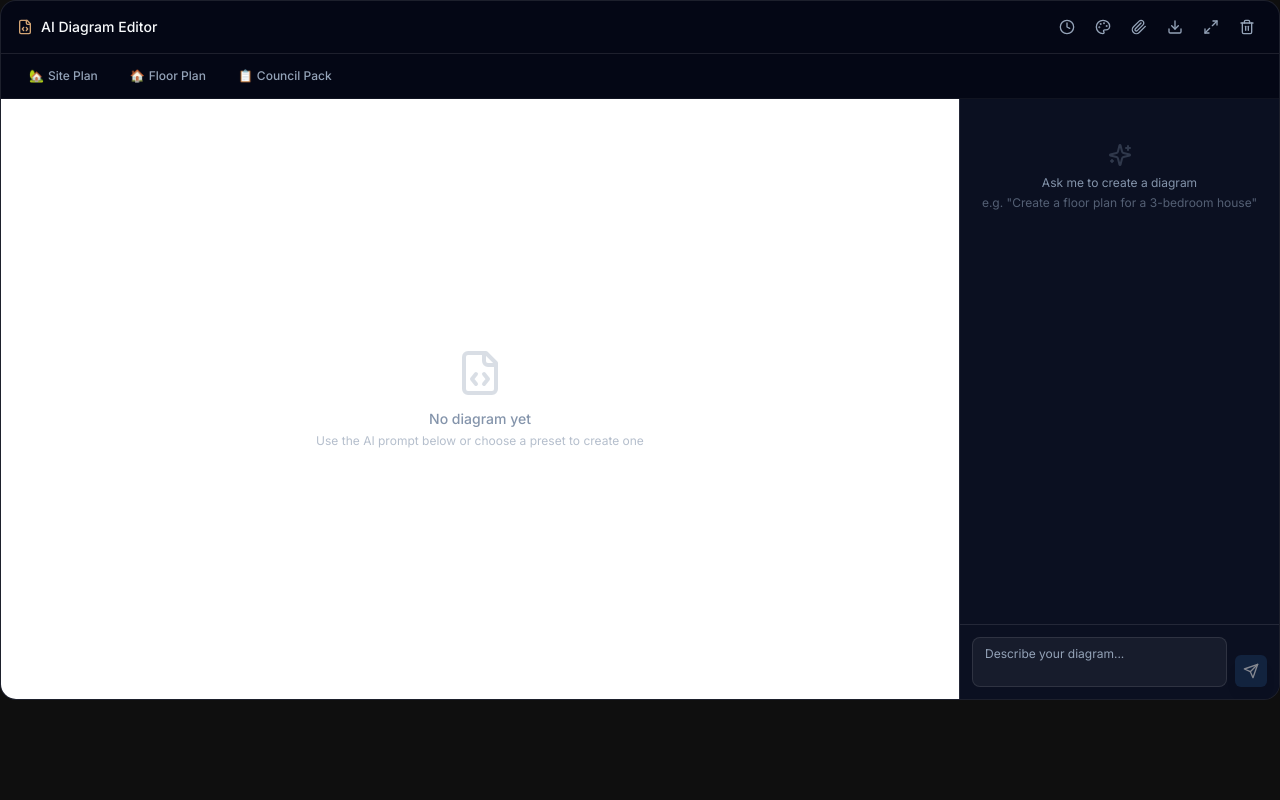
it: DrawIoEditor component › shows empty history panel
The width and height of the screenshot is (1280, 800).
Click the button titled "Chat history".
click(1067, 27)  # box [1051,11,1083,43]
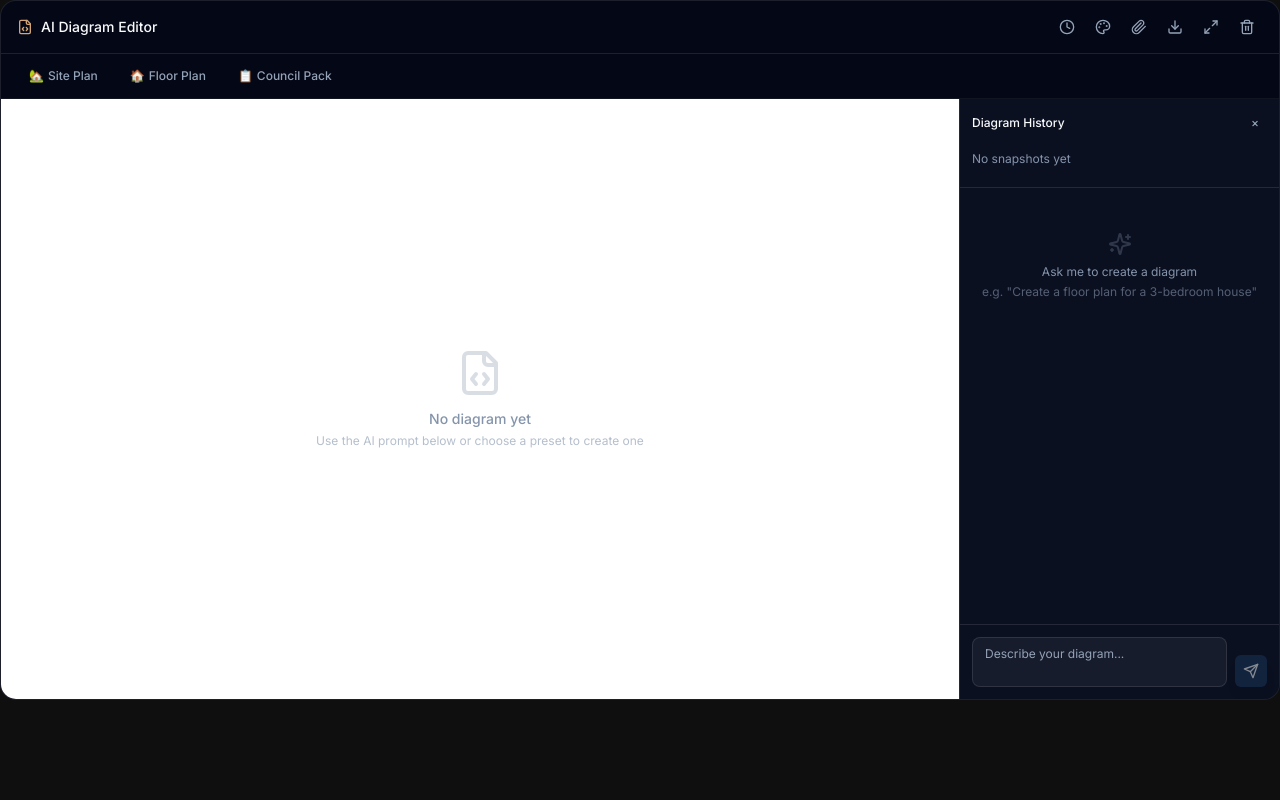
Result: the text "Diagram History" is shown at [972,115,1065,131]
Result: the text "No snapshots yet" is shown at [972,151,1071,166]
